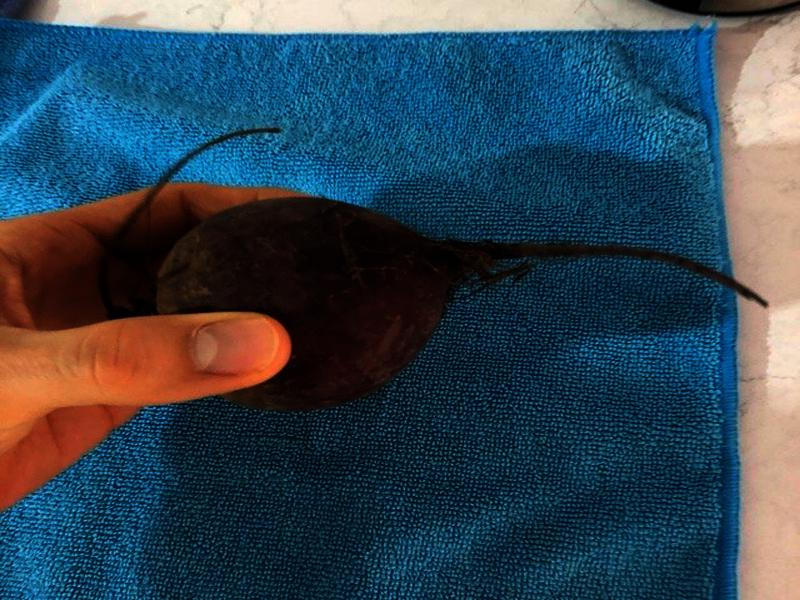Beet: (100, 129, 770, 412)
